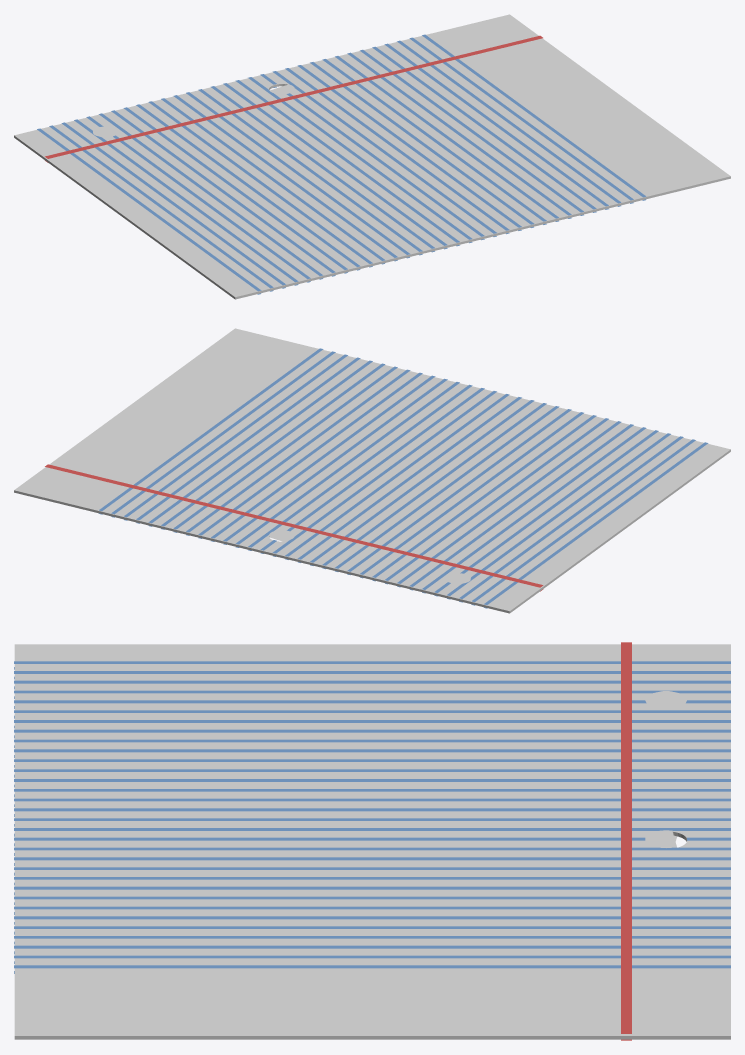
The model's file is finalPaper.fbx.
The picture shows the model from 3 angles, top to bottom: view 1: azimuth 30°, elevation 25°; view 2: azimuth 150°, elevation 25°; view 3: azimuth 270°, elevation 25°; orthographic projection. The views are drawn at different scales.
Visible parts, largest first — view 1: paper; view 2: paper; view 3: paper.
Boxes of the visible parts, box(x1,y1,x2,y2) form: paper: box(14, 14, 730, 299); paper: box(14, 328, 730, 613); paper: box(14, 642, 730, 1040).
Bounding box in the file's own units: 27.94 × 0.2186 × 21.61.
